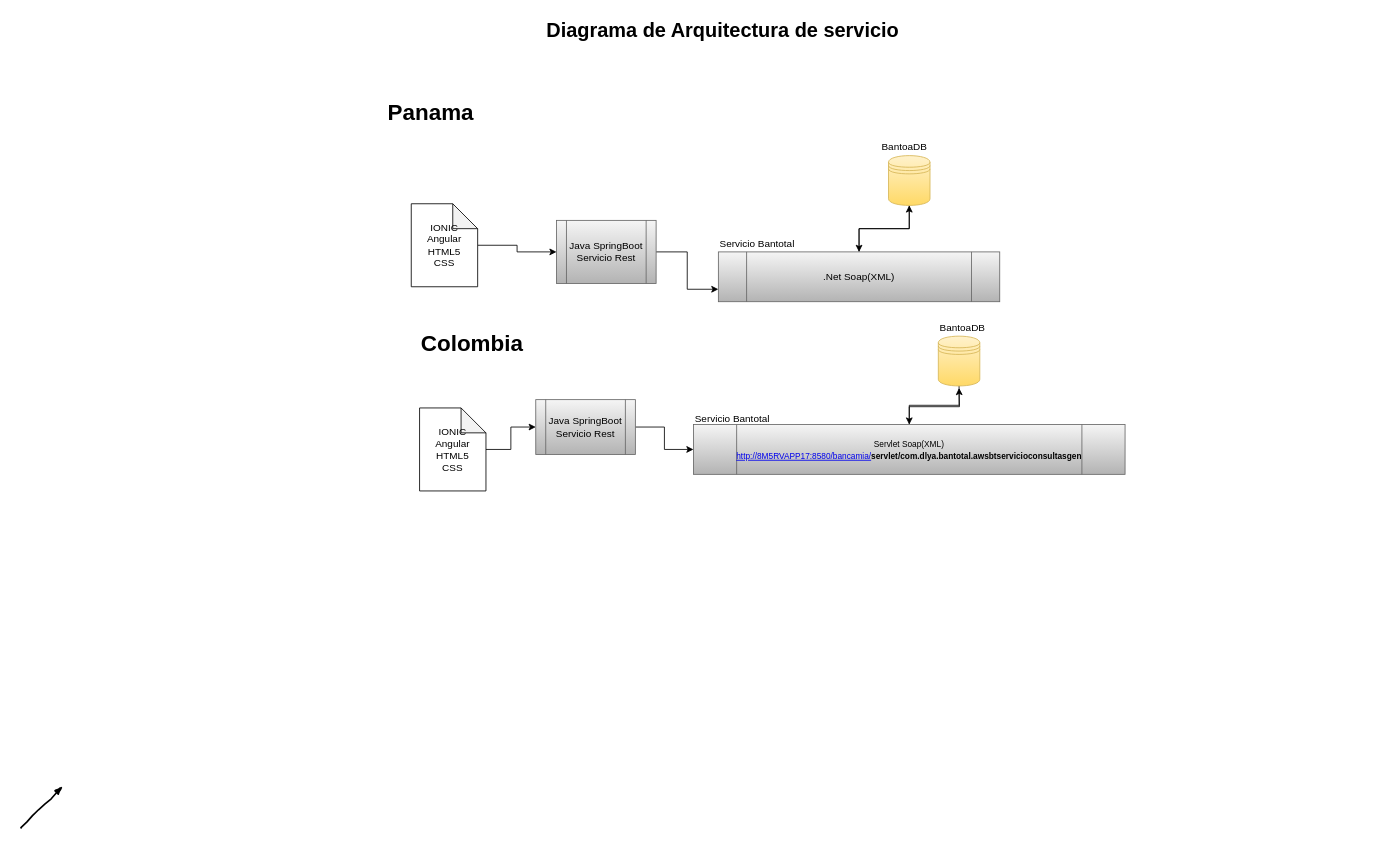
The diagram is 1396 pixels wide and 849 high, and some of its shapes have lost their labels. The box of each missing label's shape, as (x1, y1, x2, y2) in pixels:
Oracle: (937, 335, 980, 386)
SQL Server: (888, 155, 930, 205)
